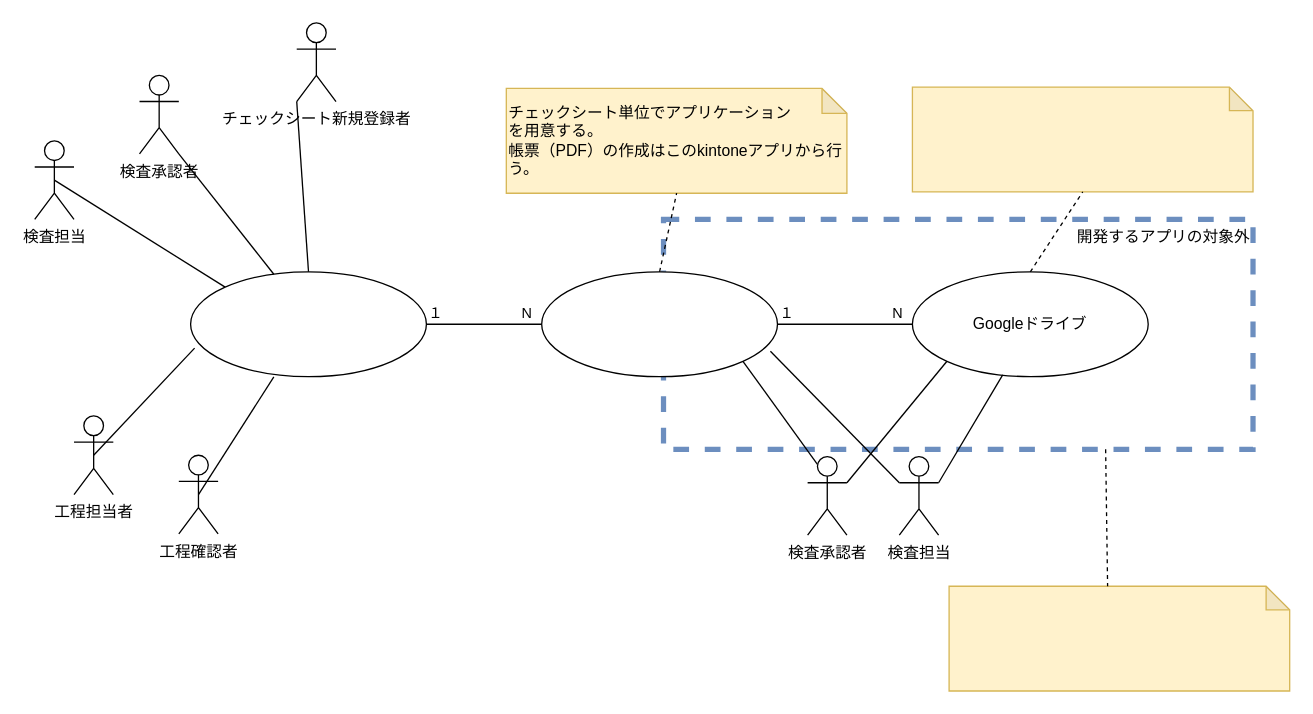
Image size: 1313x714. Some labels were removed from this diagram. The centre of each missing label's shape, as x and y in pixels:
kintone 〇〇チェックシートアプリ: pixel 658 324
PDF帳票生成に関する要望、仕様変更対応 は本アプリの対象外とします。 長谷川さん⇒遠藤さん、作間さんに指示をお願いします。: pixel 1119 638
工程内チェックシート アプリケーション: pixel 307 324
製番毎にフォルダを生成する。 フォルダ内に各チェックシートを保存する。 検査書・成績書はスキャンしたＰＤＦを手動で保存する。: pixel 1082 139
